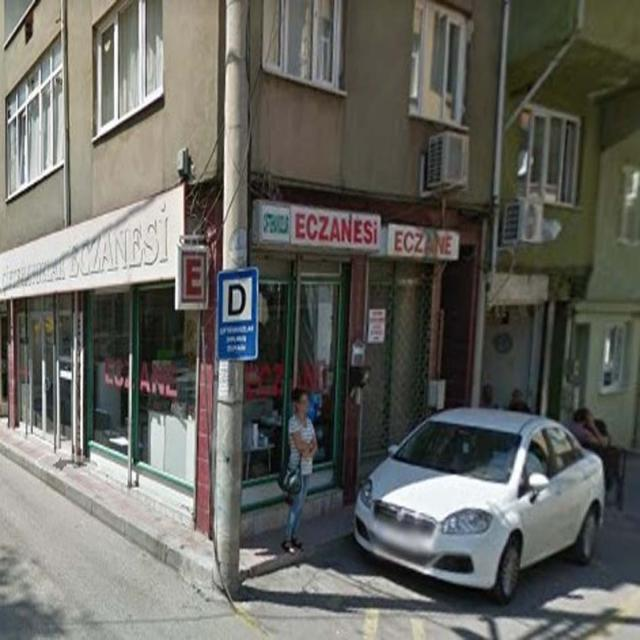durak: (217, 270, 258, 323)
